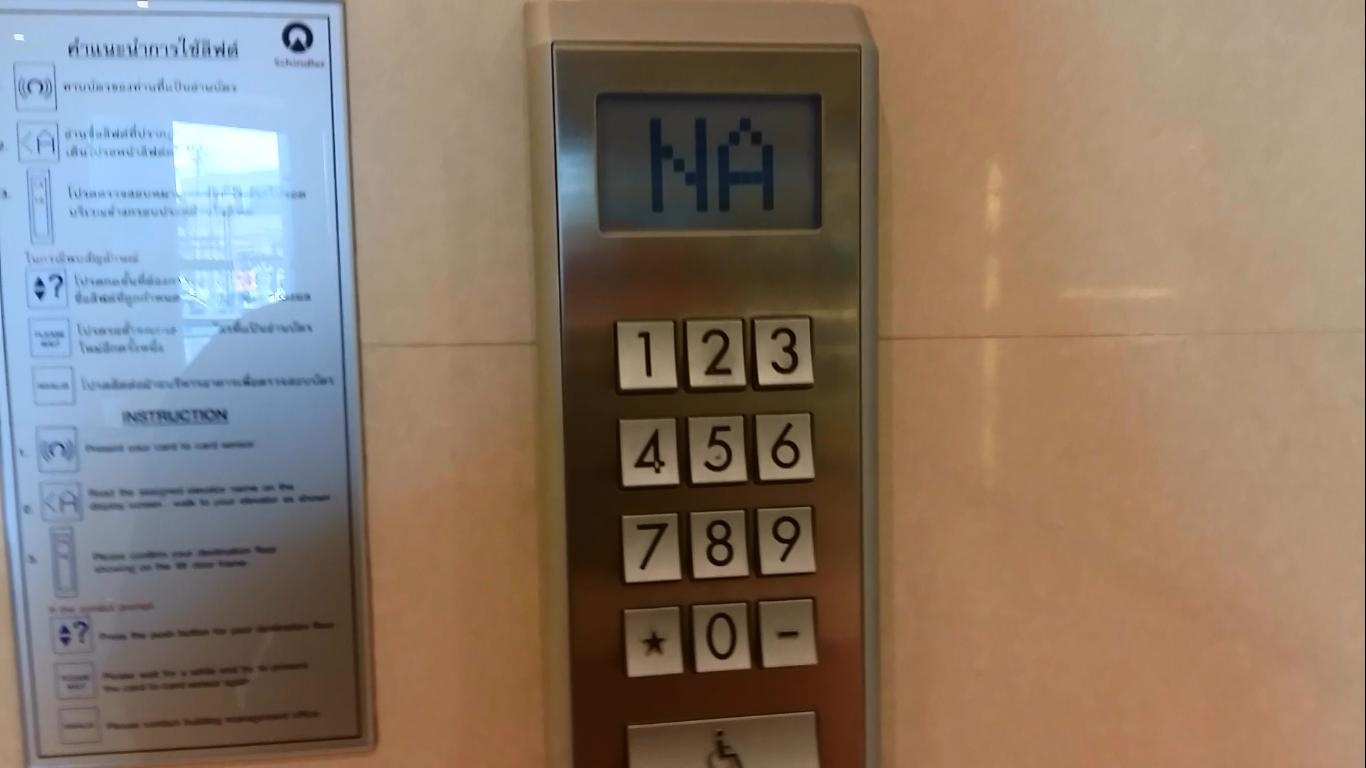-: (756, 596, 818, 668)
0: (692, 601, 752, 673)
1: (614, 319, 677, 390)
2: (685, 317, 746, 389)
3: (753, 315, 814, 389)
4: (619, 417, 680, 486)
5: (688, 415, 748, 485)
6: (754, 411, 815, 485)
7: (620, 513, 683, 583)
8: (688, 509, 750, 580)
9: (756, 506, 816, 577)
CH: (626, 710, 820, 768)
led: (585, 76, 832, 240)
s: (623, 606, 685, 678)
